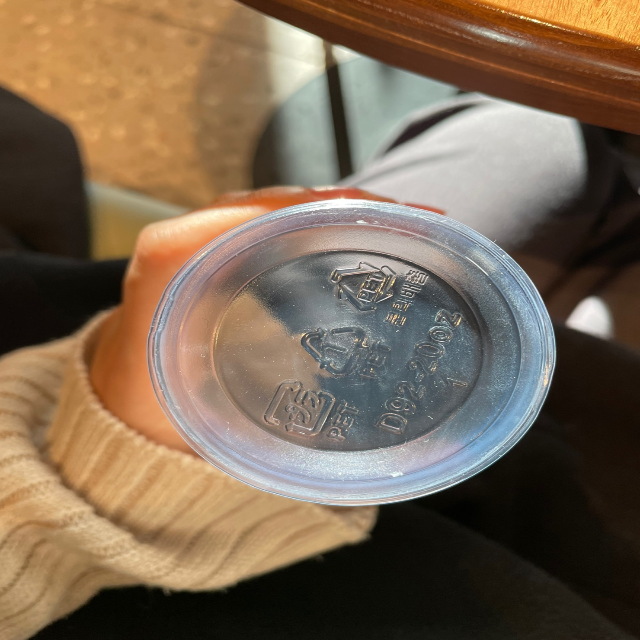pet: (329, 255, 428, 332), (258, 377, 360, 446), (296, 320, 390, 386)
